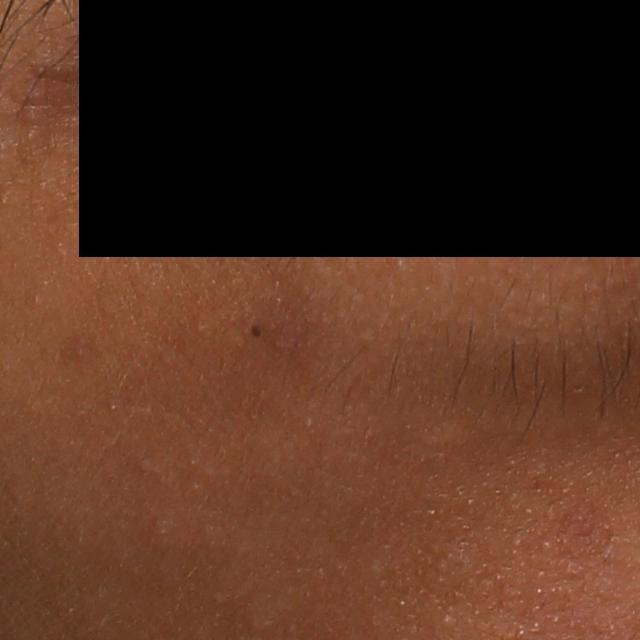nevus: (249, 322, 263, 342)
